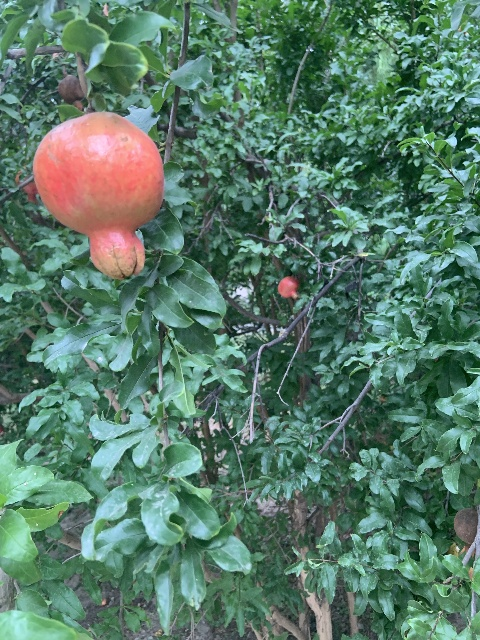ripe: (32, 111, 164, 279), (278, 276, 300, 300)
